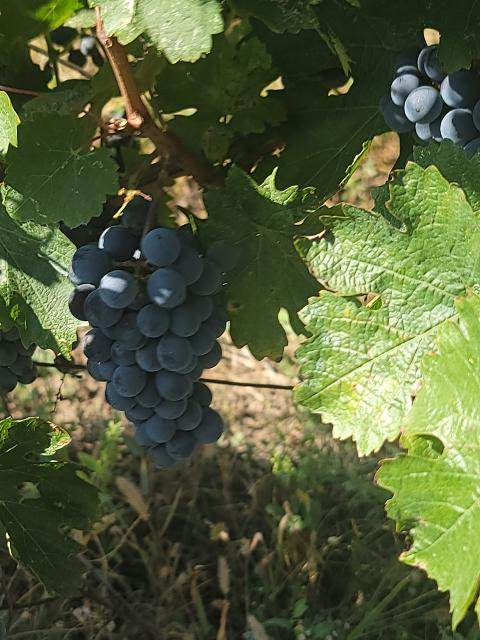grapes: (69, 199, 238, 469)
